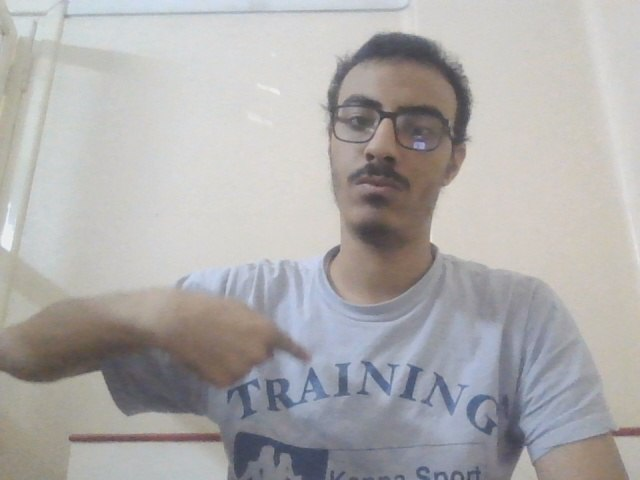Me: (144, 281, 324, 393)
